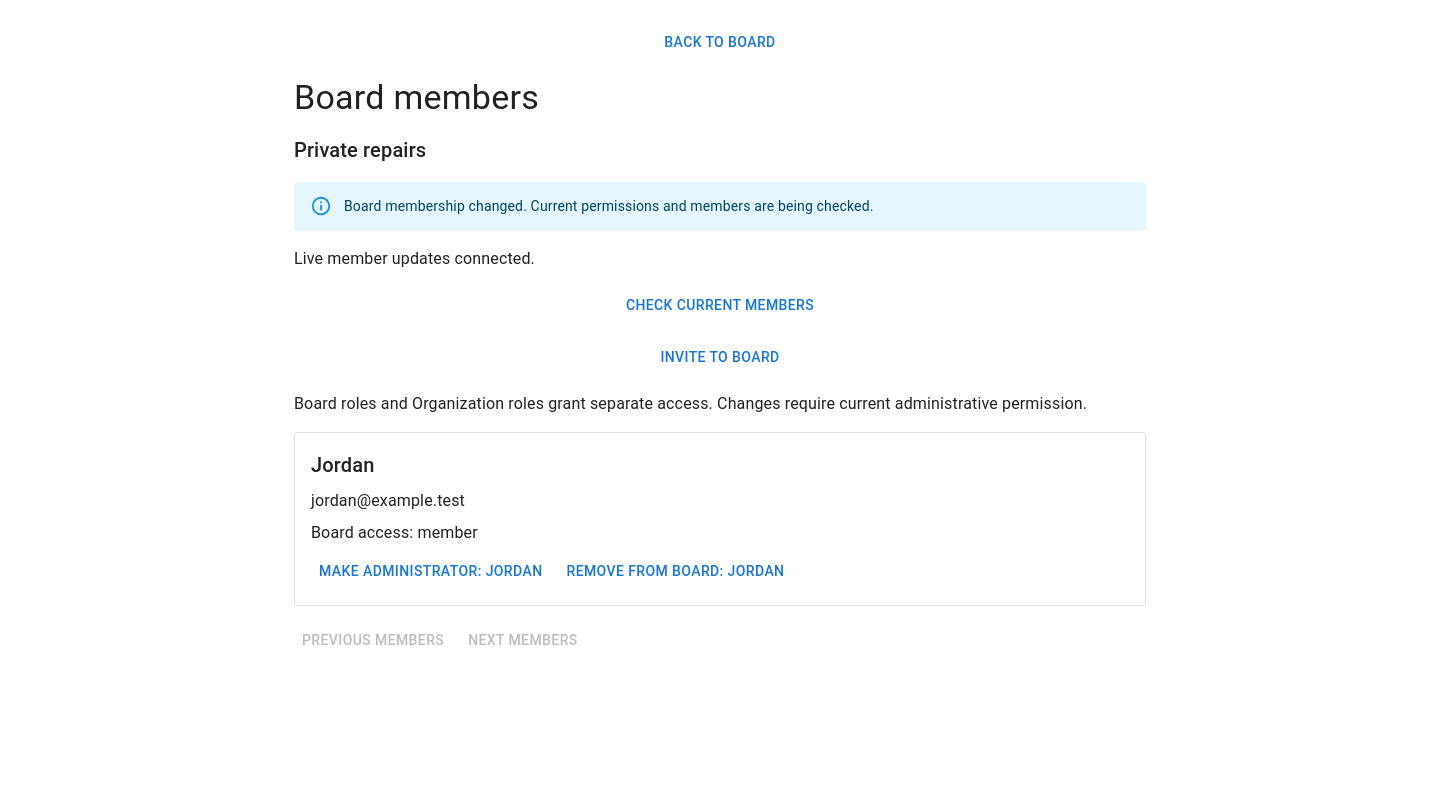
Scenario: retains fresh member consent after a changed head and explicit protected directory read
Expected: the button "Make administrator: Jordan" is shown, [311,552,550,589]
What coordinates should you click on to do the following:
click the button "Check current members"
I would click on:
 (720, 305)
Its box is [294,286,1146,323].
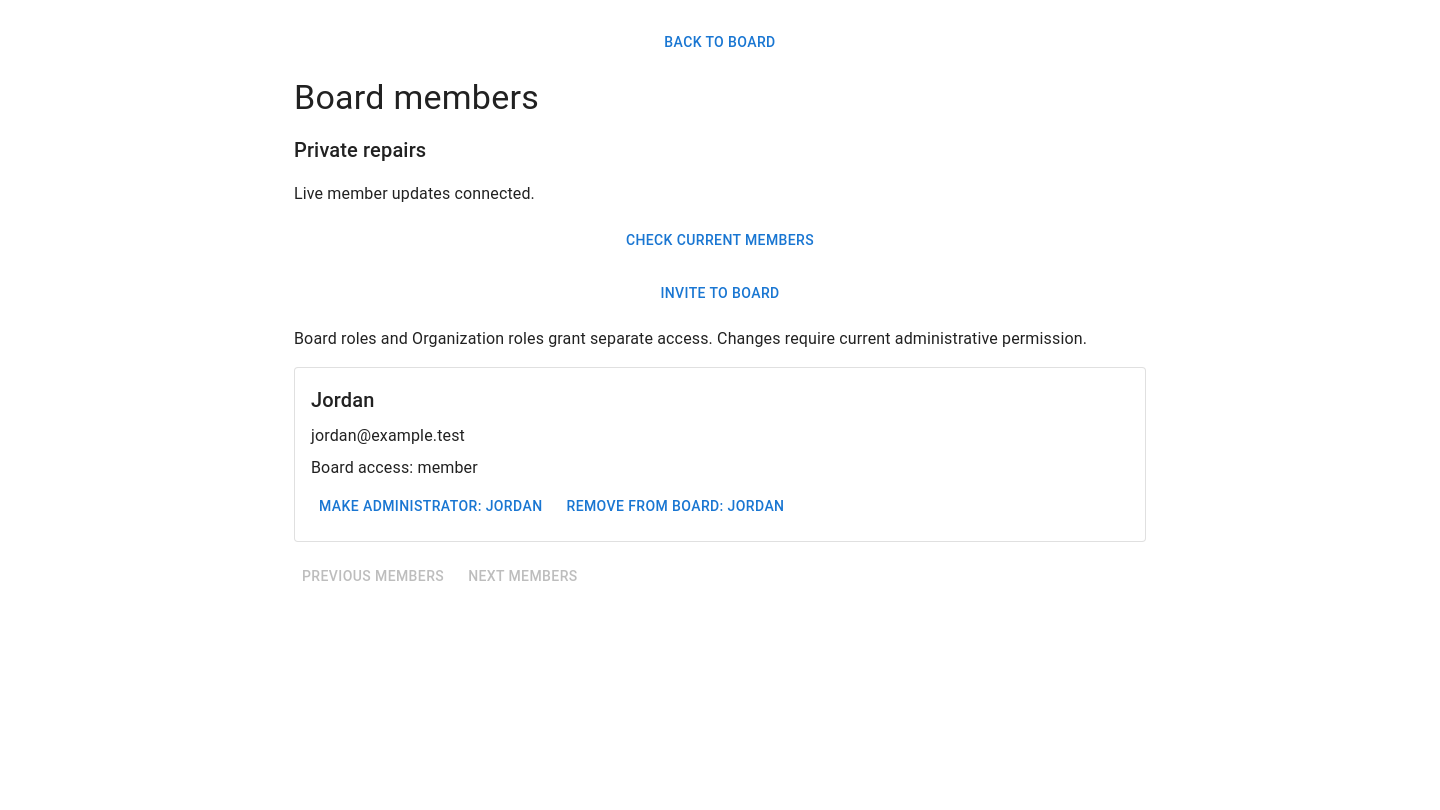
What coordinates should you click on to do the following:
click the button "Make administrator: Jordan"
I would click on:
 (431, 507)
Its box is [311,488,550,525].
Wait 300 ms
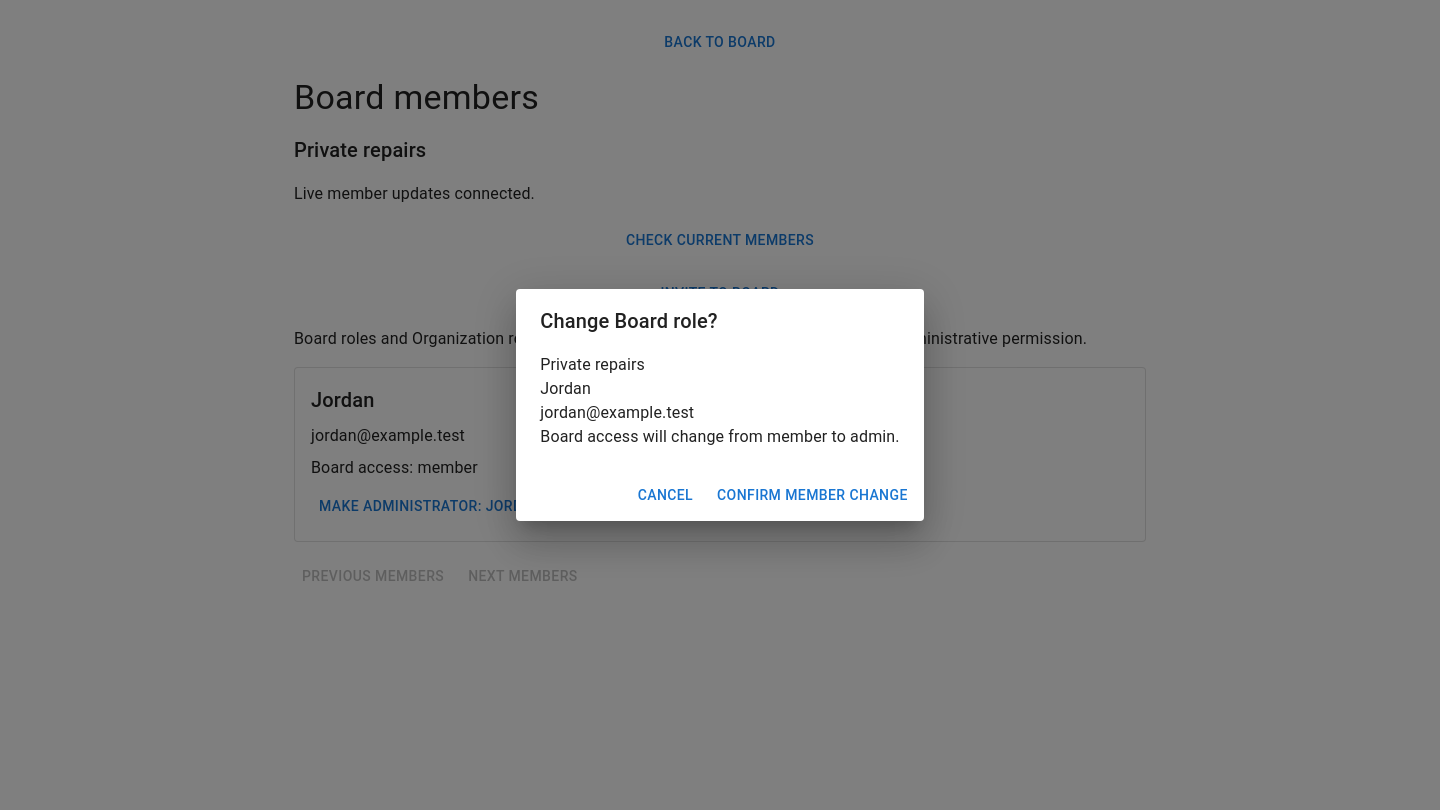
Expected: the dialog "Change Board role?" is shown, [516,289,924,521]
Expected: the button "Confirm member change" is enabled, [709,477,916,513]
